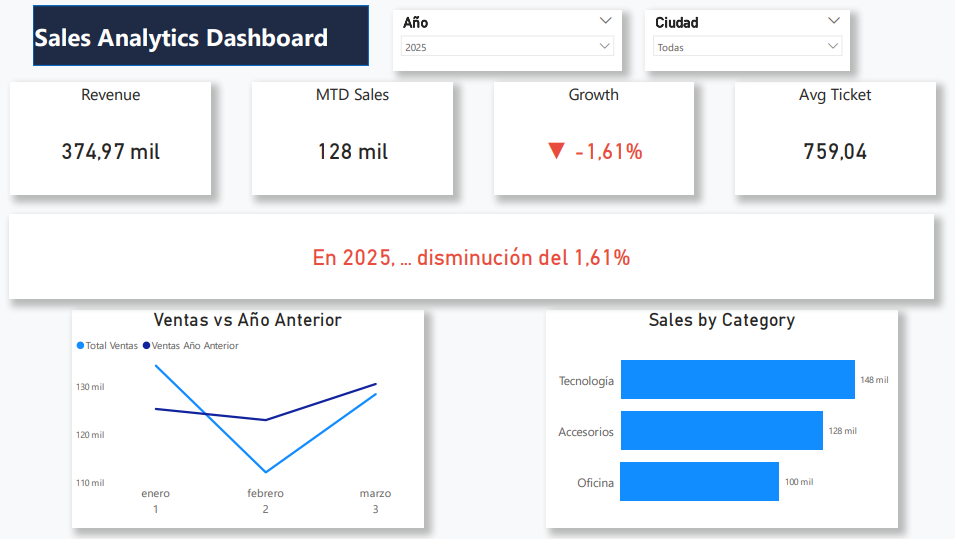

The page's visual inventory and layout, read from the dashboard file:
{"tool":"powerbi","page":{"name":"Resumen Ejecutivo","canvas":[1280,720],"ordinal":0},"visuals":[{"type":"card","fields":{"Values":["Medidas.Total Ventas"]},"box":[49,263.5,280.8,83.5],"z":0},{"type":"card","fields":{"Values":["Medidas.Ticket Promedio"]},"box":[982.1,263.5,267.8,83.5],"z":1000},{"type":"slicer","fields":{"Values":["calendario.año"]},"box":[611.7,14.6,317.6,92.2],"z":2000},{"type":"slicer","fields":{"Values":["clientes.ciudad"]},"box":[969.1,10.1,280.8,92.2],"z":3000},{"type":"lineChart","title":"Ventas vs Año Anterior","fields":{"Category":["calendario.fecha"],"Y":["Medidas.Total Ventas","Medidas.Ventas Año Anterior"]},"box":[176.9,379.5,341.1,304.2],"z":5000},{"type":"card","fields":{"Values":["Medidas.Crecimiento Mes %"]},"box":[661,263.5,259.2,83.5],"z":6000},{"type":"donutChart","title":"Ventas por categoría","fields":{"Category":["productos.categoria"],"Y":["Medidas.Total Ventas"]},"box":[870.7,392.2,364.4,304.4],"z":7000},{"type":"card","fields":{"Values":["Medidas.Ventas Mes Actual"]},"box":[378.7,263.5,233.3,83.5],"z":8000},{"type":"card","fields":{"Values":["Medidas.Texto KPI Crecimiento"]},"box":[49,119.5,1201,121],"z":9000},{"type":"textbox","box":[48,15,483,92],"z":9001}]}

Visuals, with their boxes in screenshot pixels (x1, y1, x2, y2), scaled from the page's 1280x720 canvas onto the 955x539 screenshot:
card - Medidas.Total Ventas: (37,197,246,260)
card - Medidas.Ticket Promedio: (733,197,933,260)
slicer - calendario.año: (456,11,693,80)
slicer - clientes.ciudad: (723,8,933,77)
"Ventas vs Año Anterior" lineChart: (132,284,386,512)
card - Medidas.Crecimiento Mes %: (493,197,687,260)
"Ventas por categoría" donutChart: (650,294,922,521)
card - Medidas.Ventas Mes Actual: (283,197,457,260)
card - Medidas.Texto KPI Crecimiento: (37,89,933,180)
textbox: (36,11,396,80)
